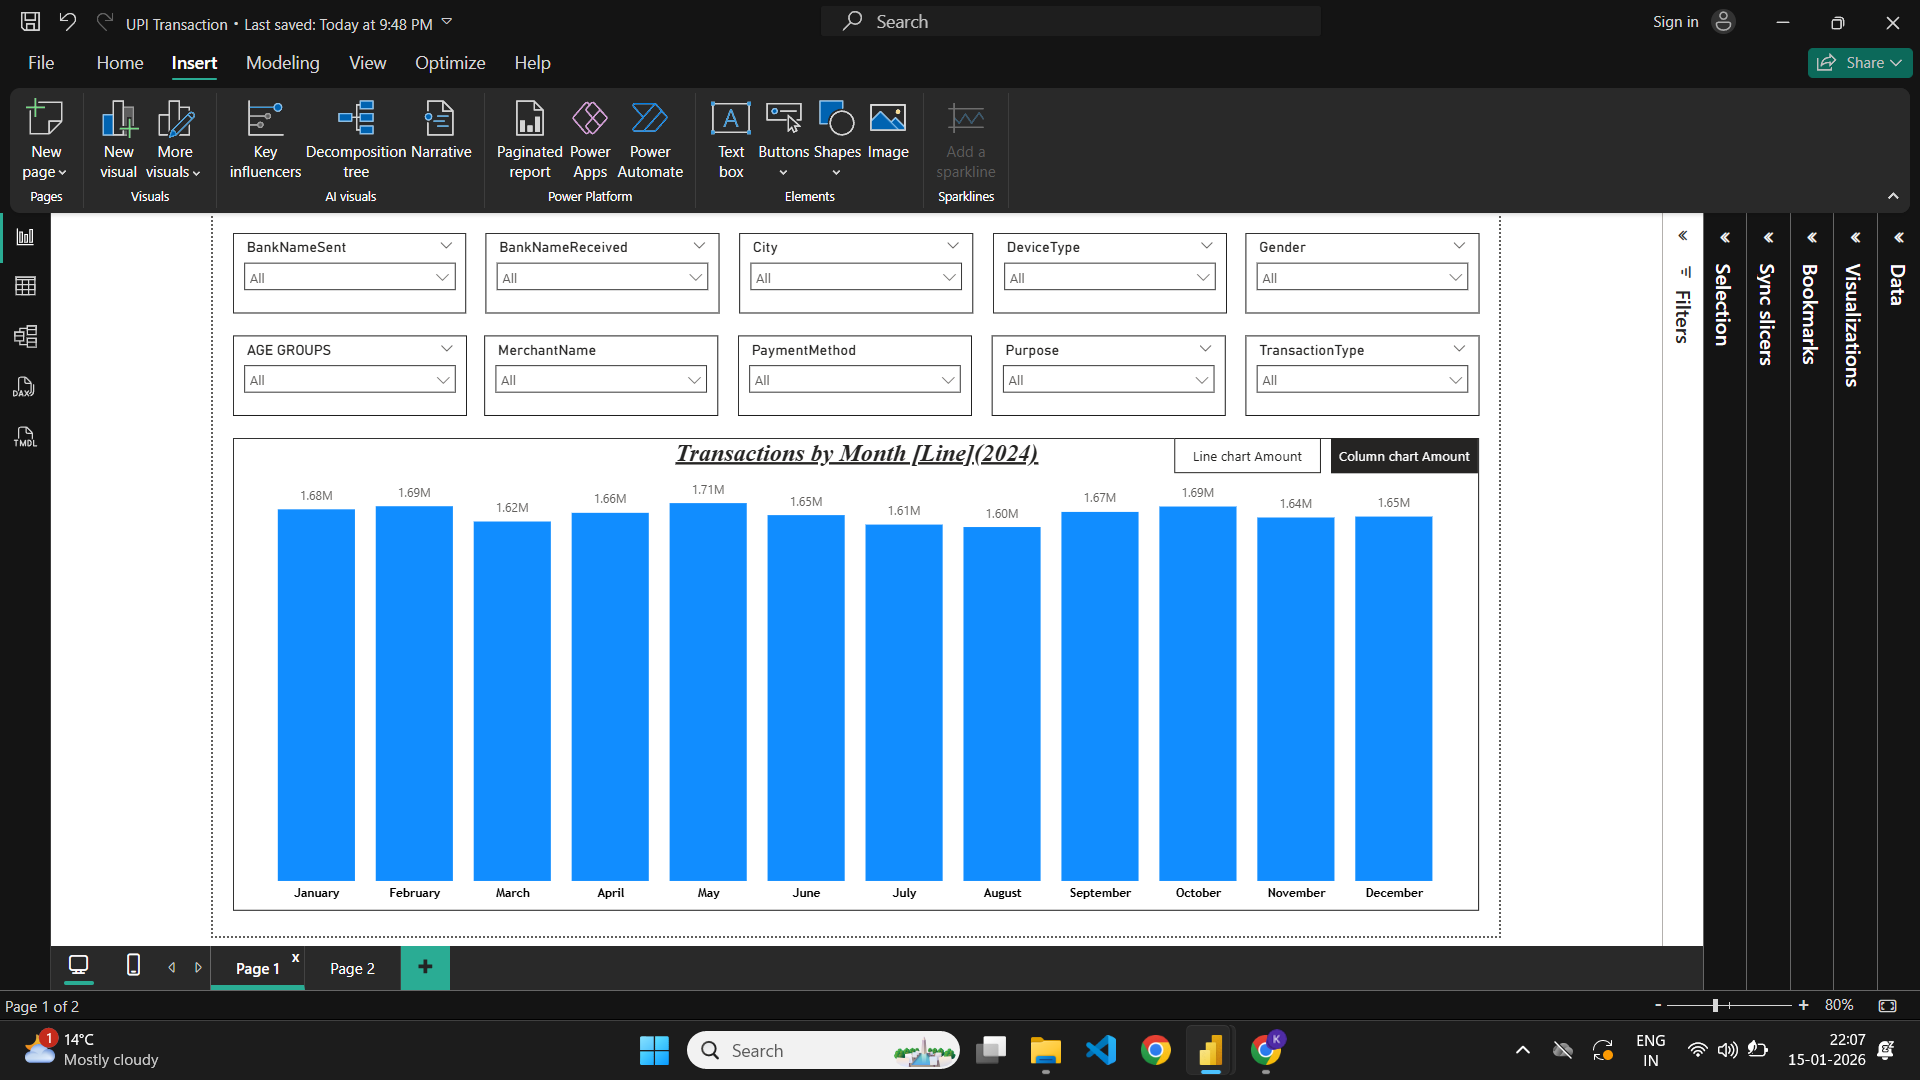

This screenshot's page, from the dashboard's own definition file:
{"tool":"powerbi","page":{"name":"Page 1","canvas":[1280,720],"ordinal":0},"visuals":[{"type":"slicer","fields":{"Values":["UPI Transactions.BankNameSent"]},"box":[20,20,232,80],"z":0},{"type":"slicer","fields":{"Values":["UPI Transactions.BankNameReceived"]},"box":[271.2,19.9,232.6,79.6],"z":1},{"type":"slicer","fields":{"Values":["UPI Transactions.City"]},"box":[524,20,232.6,79.6],"z":2},{"type":"slicer","fields":{"Values":["UPI Transactions.DeviceType"]},"box":[776,20,232.6,79.6],"z":3},{"type":"slicer","fields":{"Values":["UPI Transactions.Gender"]},"box":[1028,20,232.6,79.6],"z":4},{"type":"slicer","fields":{"Values":["UPI Transactions.AGE GROUPS"]},"box":[19.9,121.9,232.6,79.6],"z":5},{"type":"slicer","fields":{"Values":["UPI Transactions.MerchantName"]},"box":[270.2,121.5,232.6,79.6],"z":6},{"type":"slicer","fields":{"Values":["UPI Transactions.PaymentMethod"]},"box":[523.1,121.6,232.6,79.6],"z":7},{"type":"slicer","fields":{"Values":["UPI Transactions.Purpose"]},"box":[775.1,121.6,232.6,79.6],"z":8},{"type":"slicer","fields":{"Values":["UPI Transactions.TransactionType"]},"box":[1027.1,121.6,232.6,79.6],"z":9},{"type":"columnChart","title":"Transactions by Month [Line](2024)","fields":{"Category":["UPI Transactions.TransactionDate.Variation.Date Hierarchy.Month"],"Y":["Sum(UPI Transactions.Amount)"]},"box":[19.9,223.9,1240.2,470.2],"z":11},{"type":"bookmarkNavigator","box":[956.6,224.1,302.7,35.1],"z":12}]}

Visuals, with their boxes on the page's 1280x720 design canvas (x1, y1, x2, y2). These are canvas units, not pixel positions in the 1920x1080 screenshot, which may show the page scaled, cropped or inside an application window:
slicer - UPI Transactions.BankNameSent: x1=20, y1=20, x2=252, y2=100
slicer - UPI Transactions.BankNameReceived: x1=271, y1=20, x2=504, y2=100
slicer - UPI Transactions.City: x1=524, y1=20, x2=757, y2=100
slicer - UPI Transactions.DeviceType: x1=776, y1=20, x2=1009, y2=100
slicer - UPI Transactions.Gender: x1=1028, y1=20, x2=1261, y2=100
slicer - UPI Transactions.AGE GROUPS: x1=20, y1=122, x2=252, y2=202
slicer - UPI Transactions.MerchantName: x1=270, y1=122, x2=503, y2=201
slicer - UPI Transactions.PaymentMethod: x1=523, y1=122, x2=756, y2=201
slicer - UPI Transactions.Purpose: x1=775, y1=122, x2=1008, y2=201
slicer - UPI Transactions.TransactionType: x1=1027, y1=122, x2=1260, y2=201
"Transactions by Month [Line](2024)" columnChart: x1=20, y1=224, x2=1260, y2=694
bookmarkNavigator: x1=957, y1=224, x2=1259, y2=259
